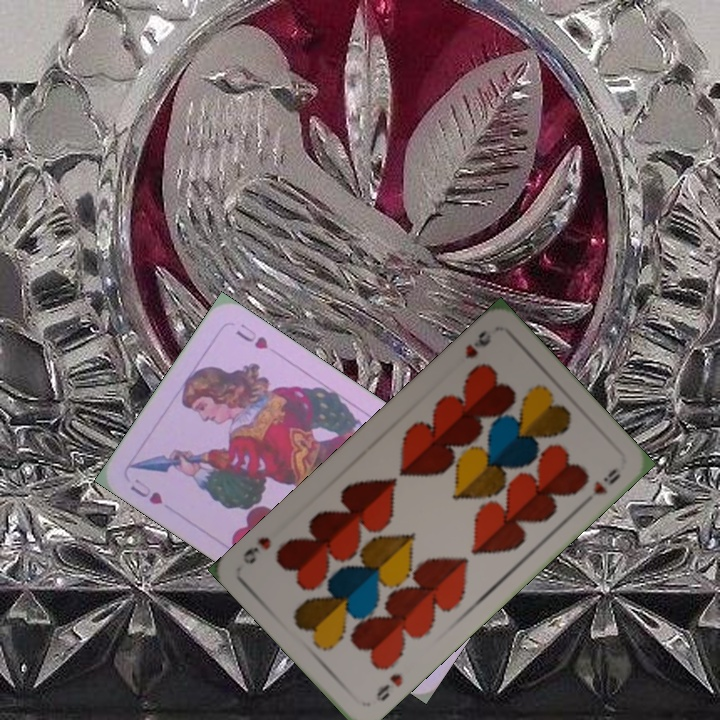H9: (372, 669, 406, 704), (461, 326, 494, 362)
HU: (126, 474, 166, 508)
